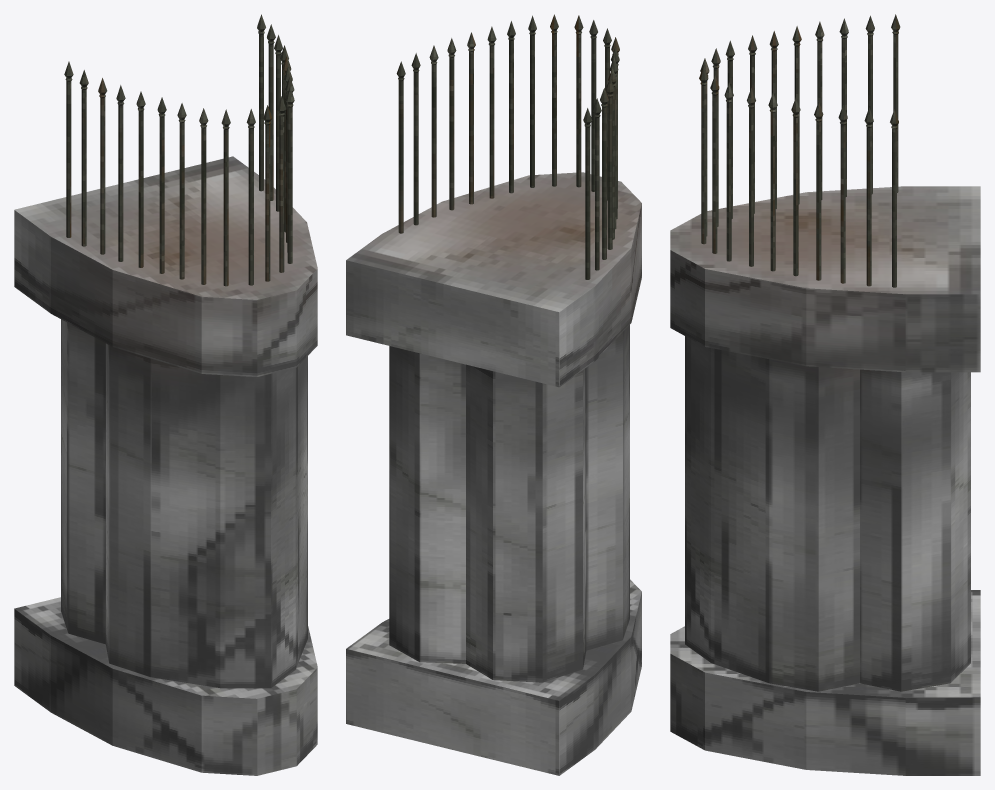
File: sidemonumentwt.fbx
3 renders of one model, left to right at view 1: azimuth 30°, elevation 25°; view 2: azimuth 150°, elevation 25°; view 3: azimuth 270°, elevation 25°, orthographic. The views are drawn at different scales.
Parts seen in each view (by area): view 1: Cube.026; view 2: Cube.026; view 3: Cube.026.
Part boxes in pixels (box(x1,y1,x2,y2)): Cube.026: box(14, 14, 317, 775); Cube.026: box(346, 14, 641, 775); Cube.026: box(670, 14, 980, 775).
Bounding box in the file's own units: 721 × 2053 × 874.
